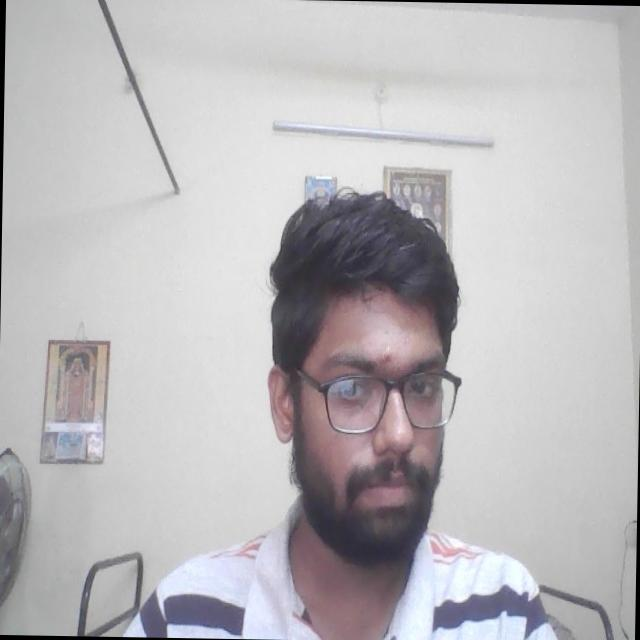Focused: (313, 304, 464, 532)
